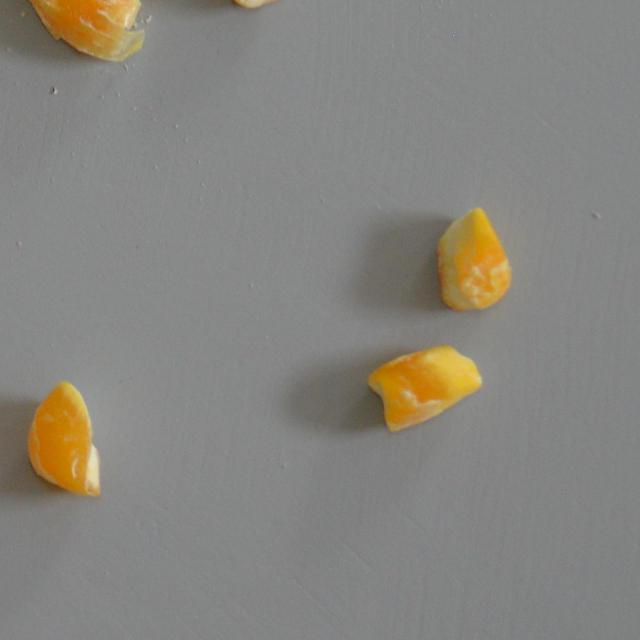pelicula: (366, 344, 482, 434), (26, 380, 100, 497), (8, 0, 144, 62), (435, 204, 510, 308), (214, 0, 300, 10)
